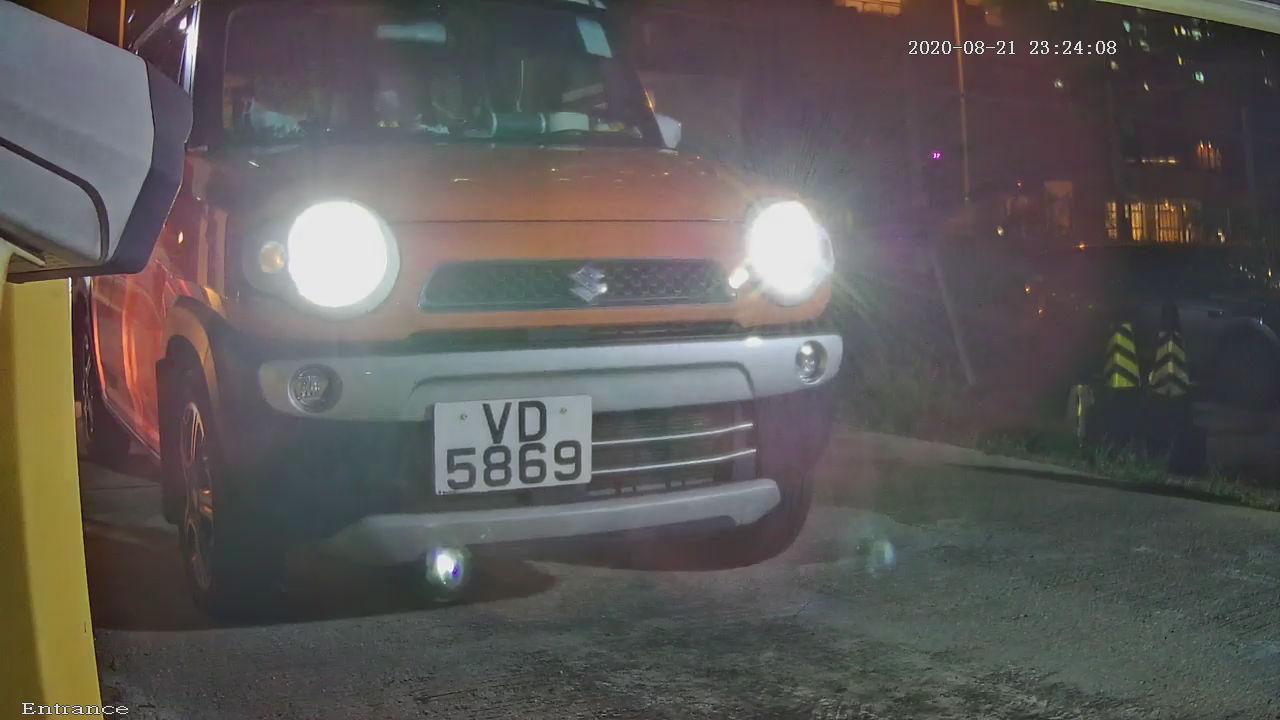Car: (52, 1, 961, 679)
License Plate: (418, 377, 618, 508)
